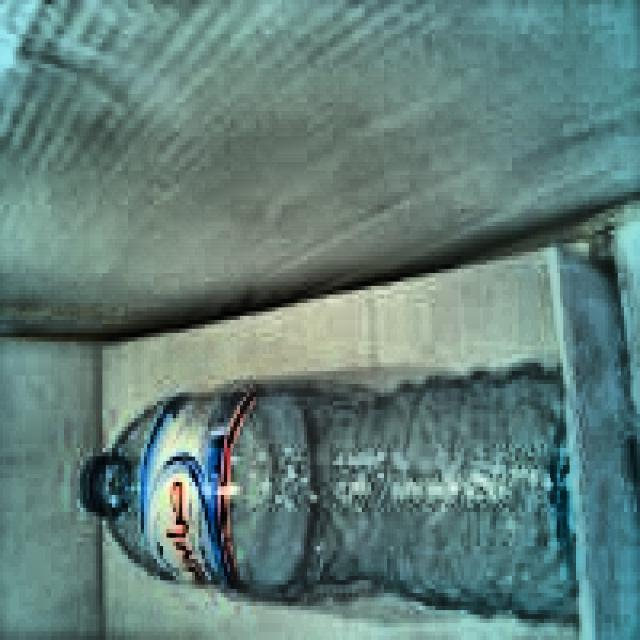plastic bottle: (83, 371, 573, 617)
